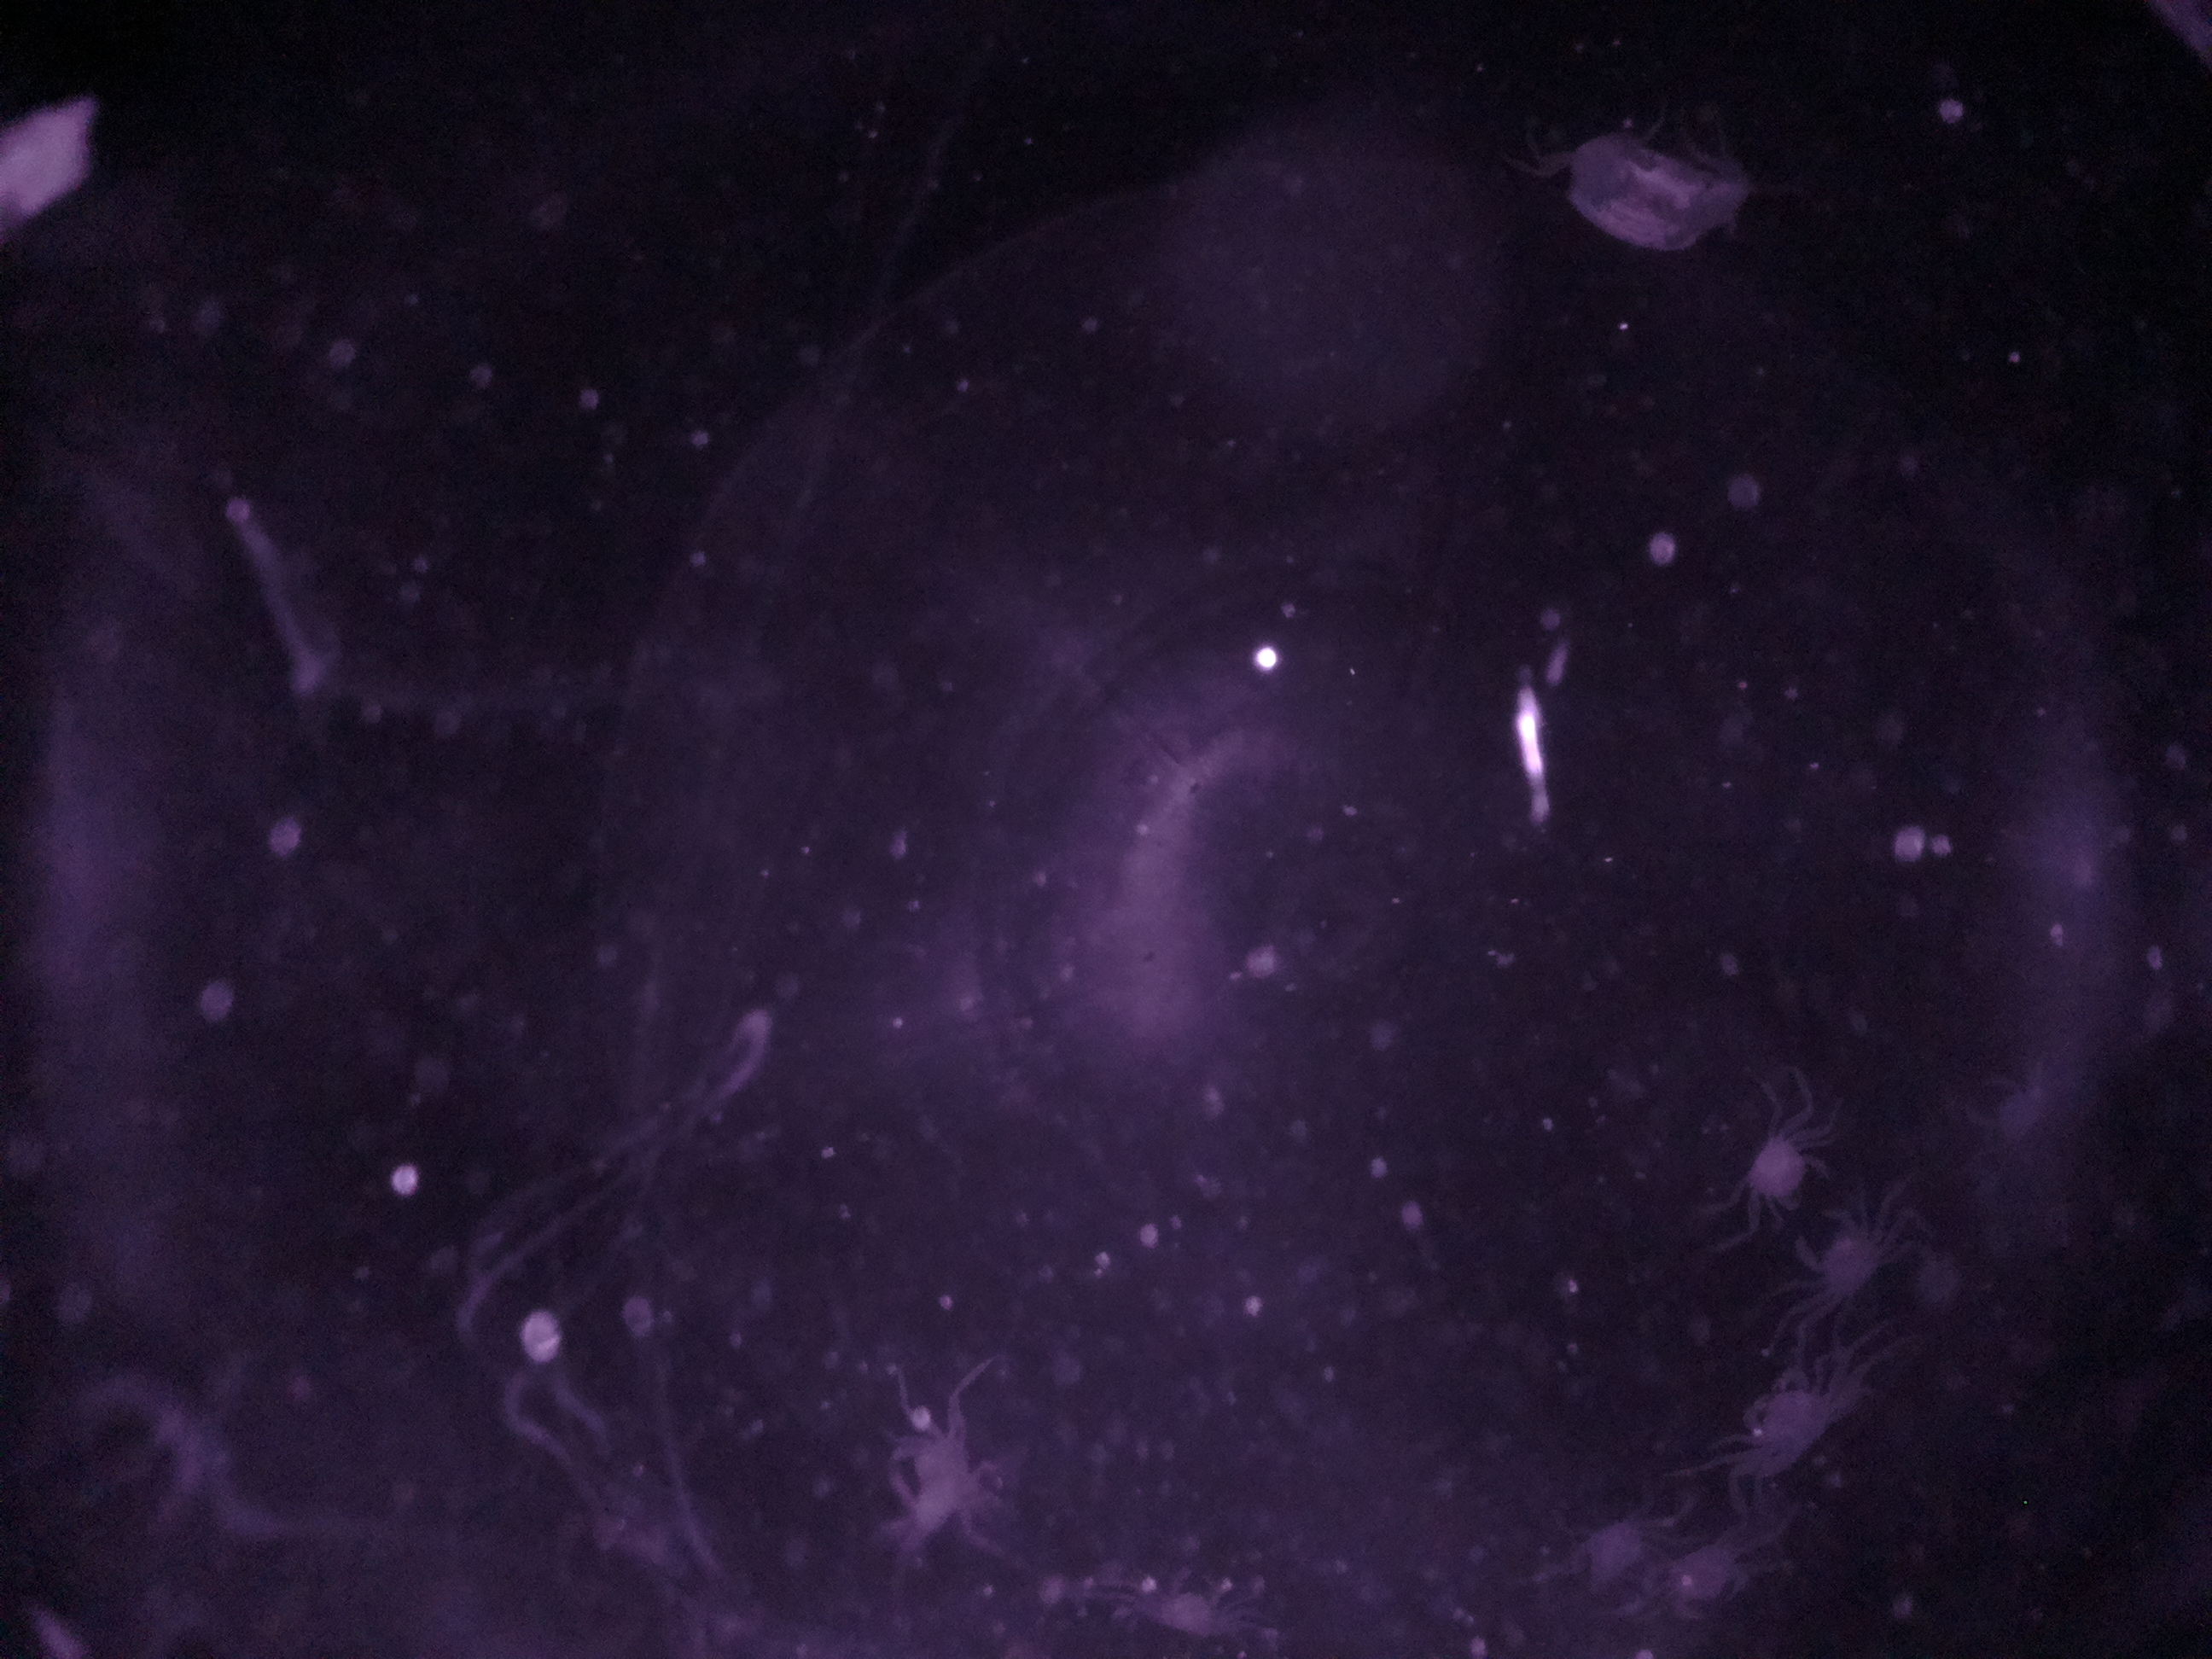Crab: (1724, 1354, 1862, 1500), (1644, 1521, 1778, 1642), (1792, 1195, 1909, 1321), (1723, 1110, 1825, 1230)
